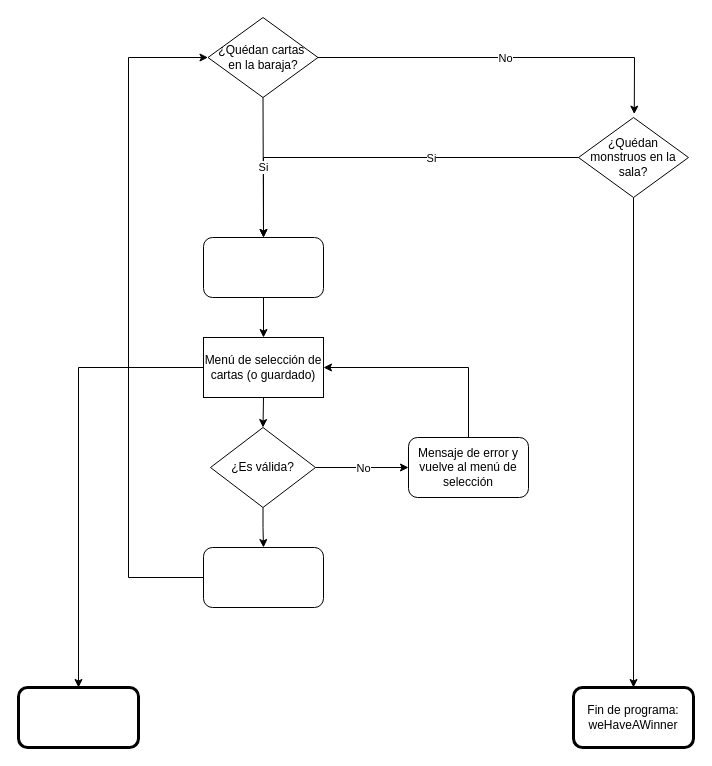
Some shapes in this 712 by 766 pixel diagram are drawn without their labels. The centre of each missing label's shape, as x and y in pixels:
"Fin de programa: guardado" belongs at point (78, 717).
"Se muestra la ronda actual y las cartas de la sala" belongs at point (263, 267).
"Se usa la carta, si hay una, se rellena la sala (si se puede)" belongs at point (263, 577).
